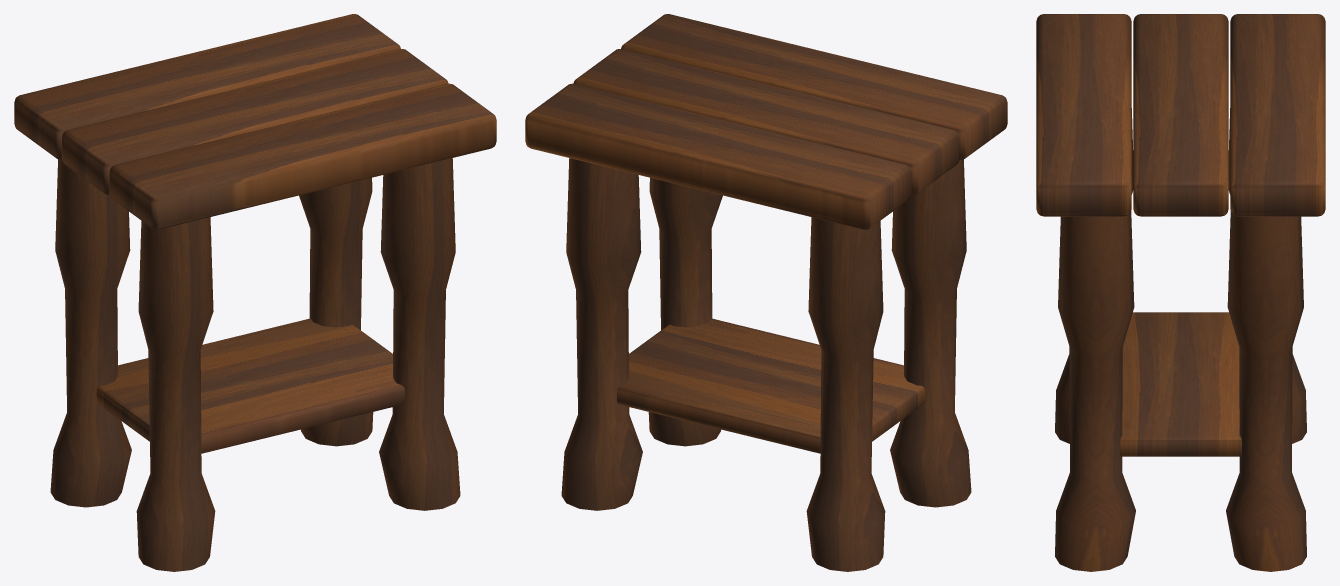
File: CM_AF01_InstrumentStand.fbx
3 views of the same model, side by side, from view 1: azimuth 30°, elevation 25°; view 2: azimuth 150°, elevation 25°; view 3: azimuth 270°, elevation 25° (orthographic).
Visible parts, largest first — view 1: CM_AF01_InstrumentStand; view 2: CM_AF01_InstrumentStand; view 3: CM_AF01_InstrumentStand.
Boxes of the visible parts, x1,y1,x2,y2 form: CM_AF01_InstrumentStand: (14,14,496,571); CM_AF01_InstrumentStand: (525,14,1007,571); CM_AF01_InstrumentStand: (1036,14,1325,571).
Size of the model in its own units: 0.67 by 0.7225 by 0.477.
